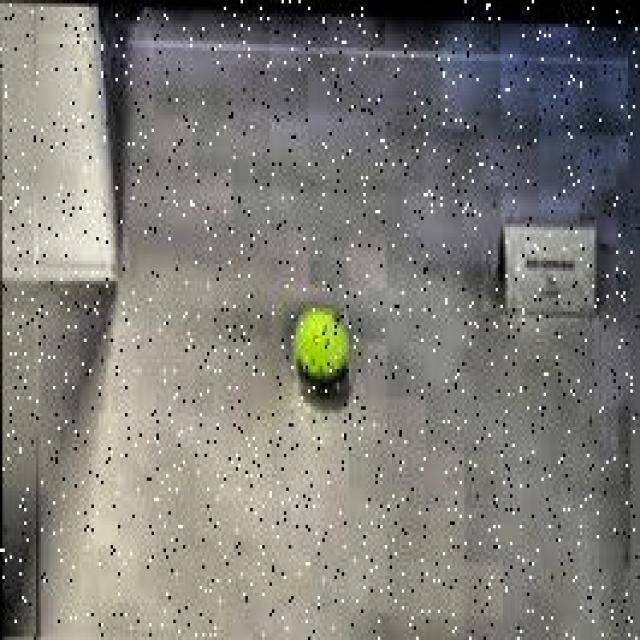tennis-ball: (292, 306, 350, 398)
